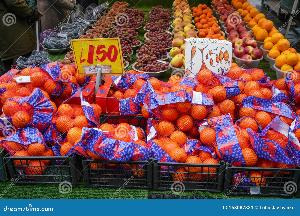apple: (223, 0, 261, 64), (169, 0, 198, 68)
grape: (135, 0, 175, 72), (104, 8, 148, 72)
orange: (0, 70, 300, 168), (246, 4, 300, 78), (195, 8, 222, 68)
